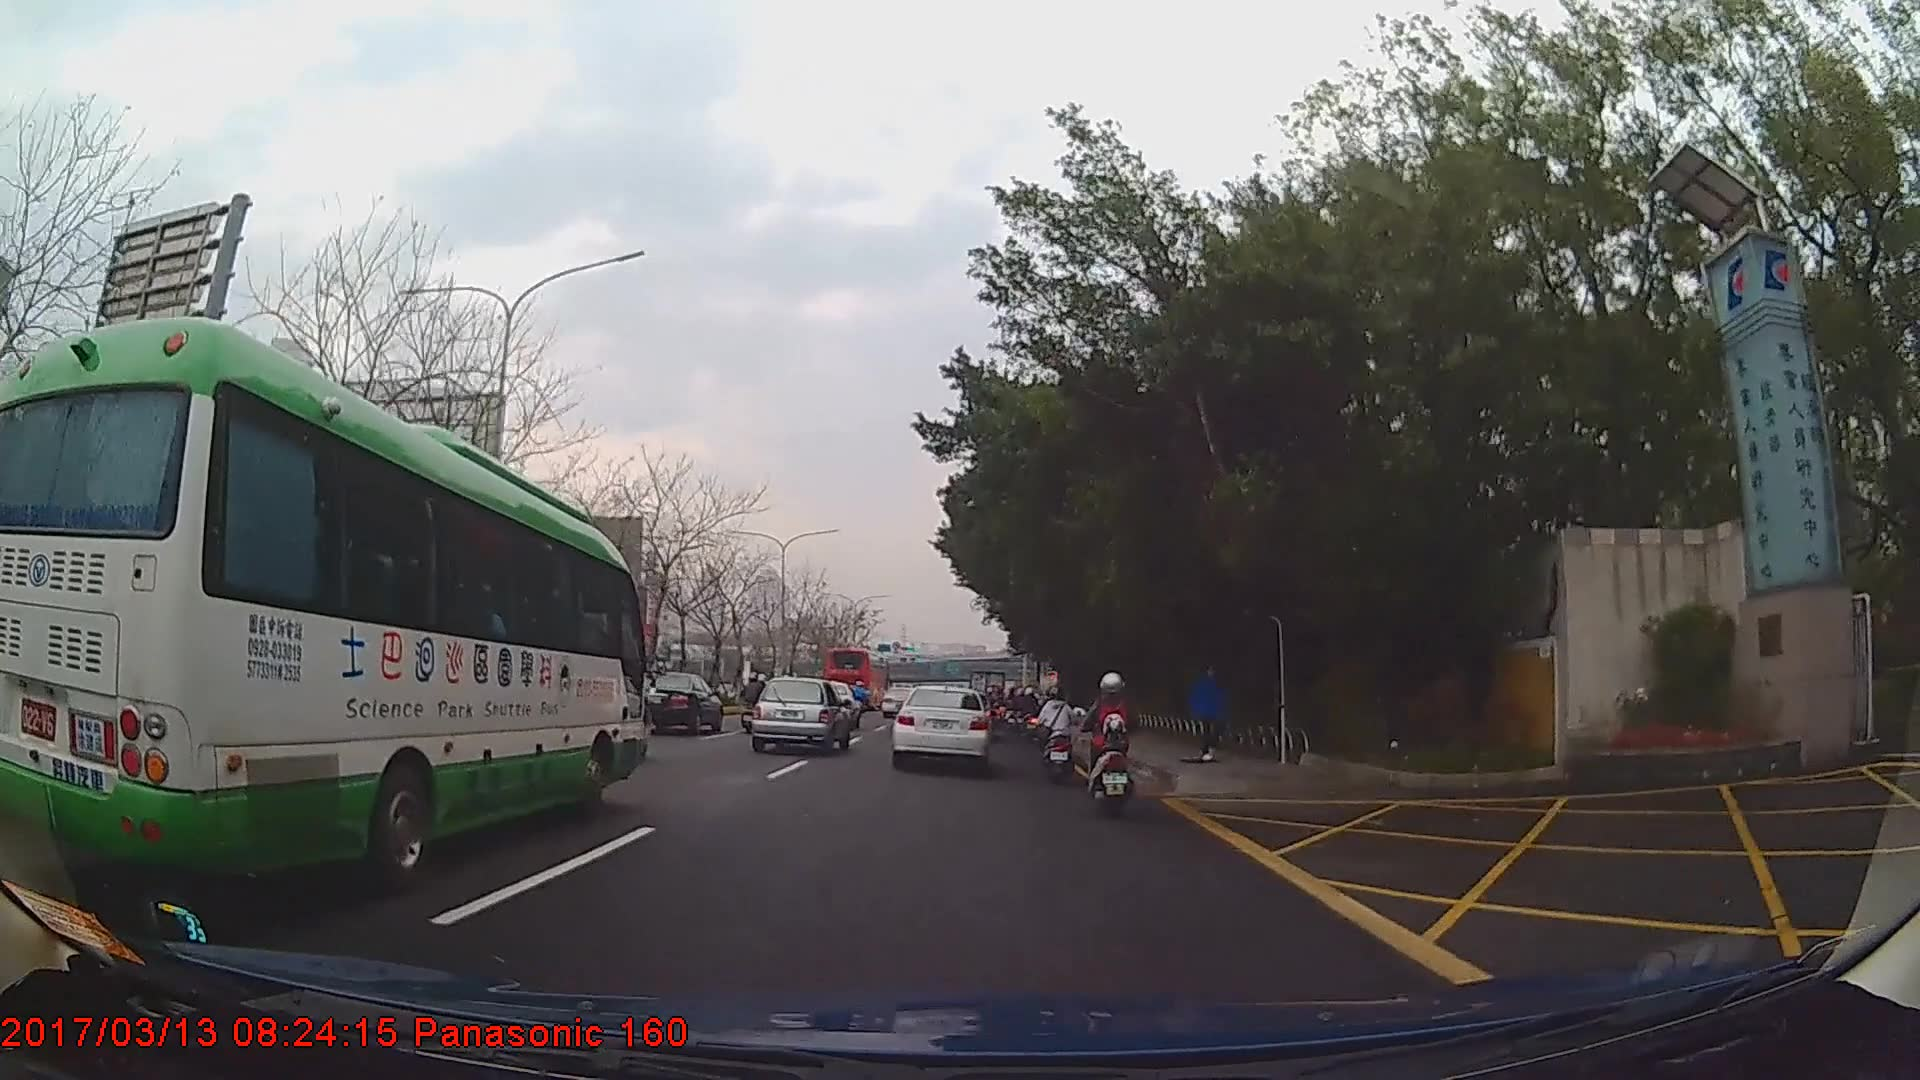pedestrian: (1195, 666, 1231, 763)
rider: (1081, 676, 1138, 817), (1038, 689, 1079, 785), (744, 673, 768, 720)
vehicle: (0, 310, 648, 895), (889, 683, 991, 771), (751, 675, 849, 753), (630, 670, 723, 738), (825, 649, 892, 713)
